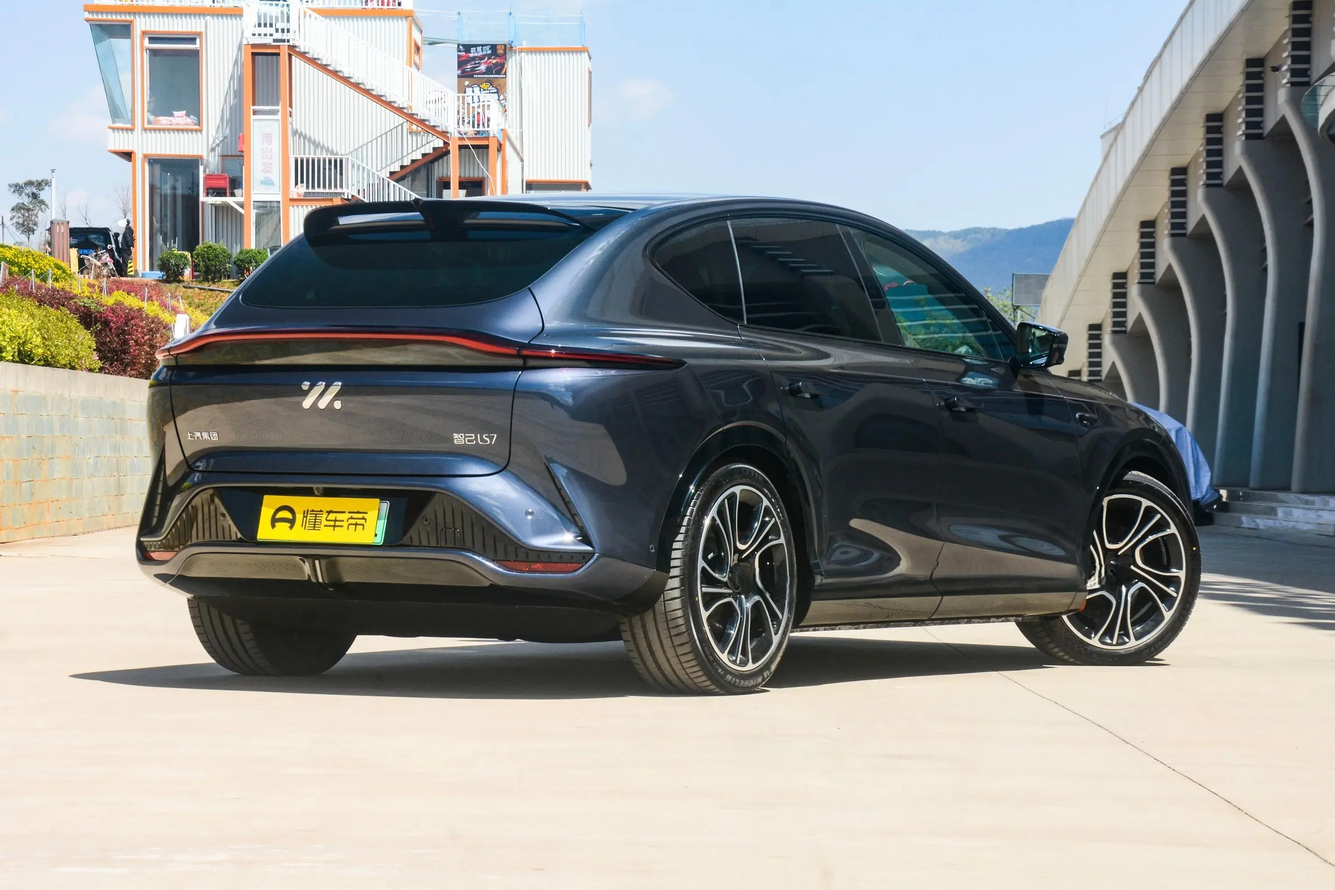IM: (302, 382, 341, 409)
